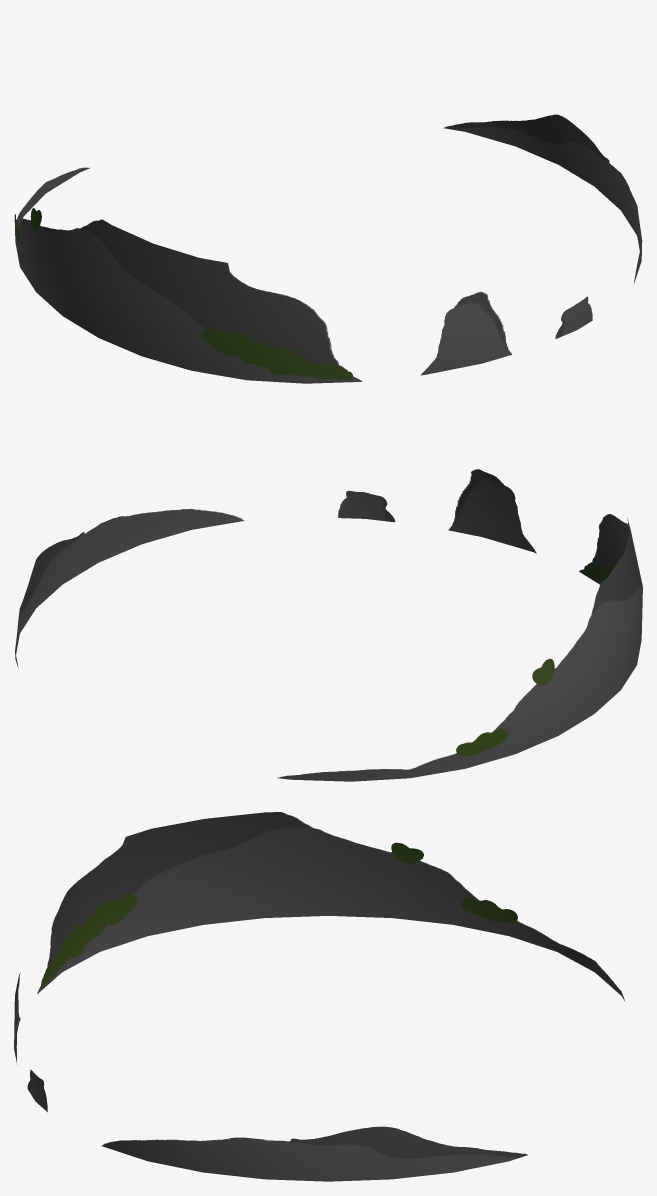
The model's file is MESH_Skybox.fbx.
The picture shows the model from 3 angles, top to bottom: view 1: azimuth 30°, elevation 25°; view 2: azimuth 150°, elevation 25°; view 3: azimuth 270°, elevation 25°; orthographic projection. The views are drawn at different scales.
Parts seen in each view (by area): view 1: MESH_Skybox; view 2: MESH_Skybox; view 3: MESH_Skybox.
Boxes of the visible parts, x1,y1,x2,y2 form: MESH_Skybox: [14, 114, 642, 383]; MESH_Skybox: [15, 469, 642, 781]; MESH_Skybox: [14, 812, 624, 1181].
Size of the model in its own units: 104 by 20.46 by 104.
